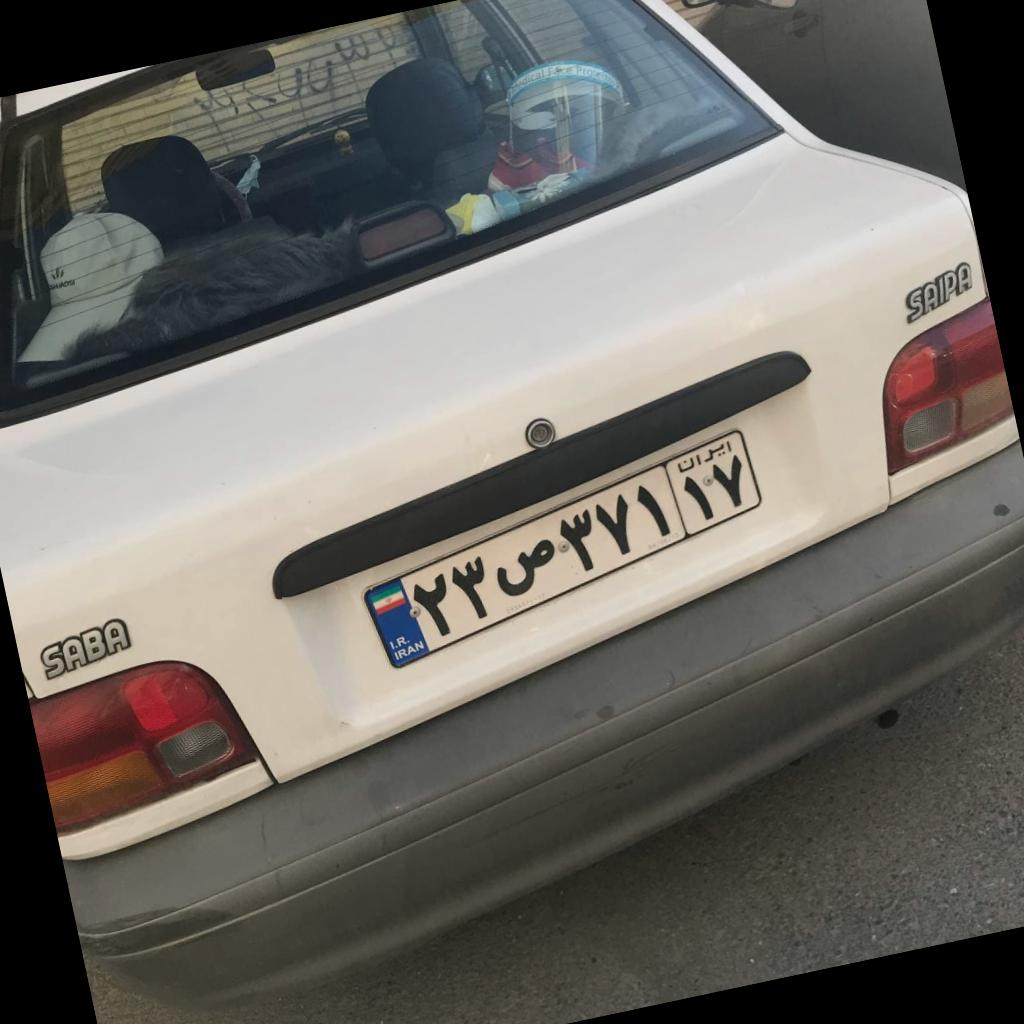Plates: (362, 429, 764, 670)
